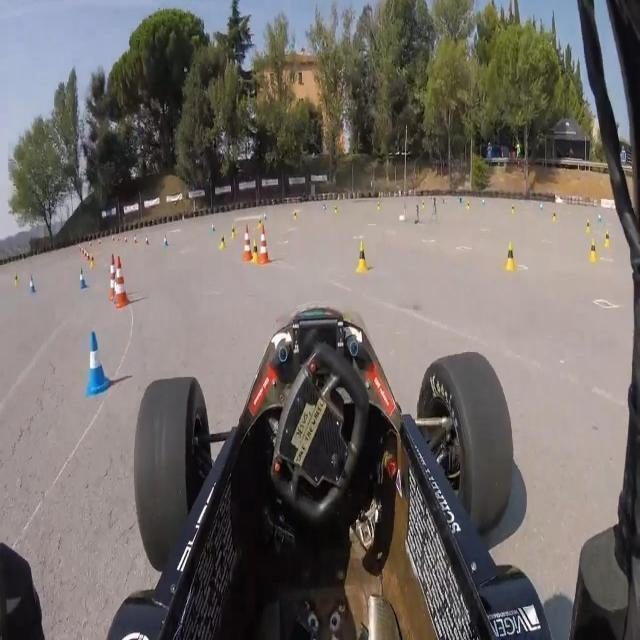forklift: (103, 309, 556, 640)
road sign: (238, 179, 256, 191), (123, 204, 139, 215), (311, 173, 328, 183), (215, 185, 232, 195), (144, 198, 160, 208), (288, 177, 305, 186), (188, 190, 205, 199), (166, 193, 182, 202), (262, 179, 279, 187)
traffic cone: (84, 331, 110, 398), (257, 223, 271, 265), (355, 242, 371, 274), (504, 241, 518, 272), (242, 225, 253, 263), (589, 244, 598, 263)
